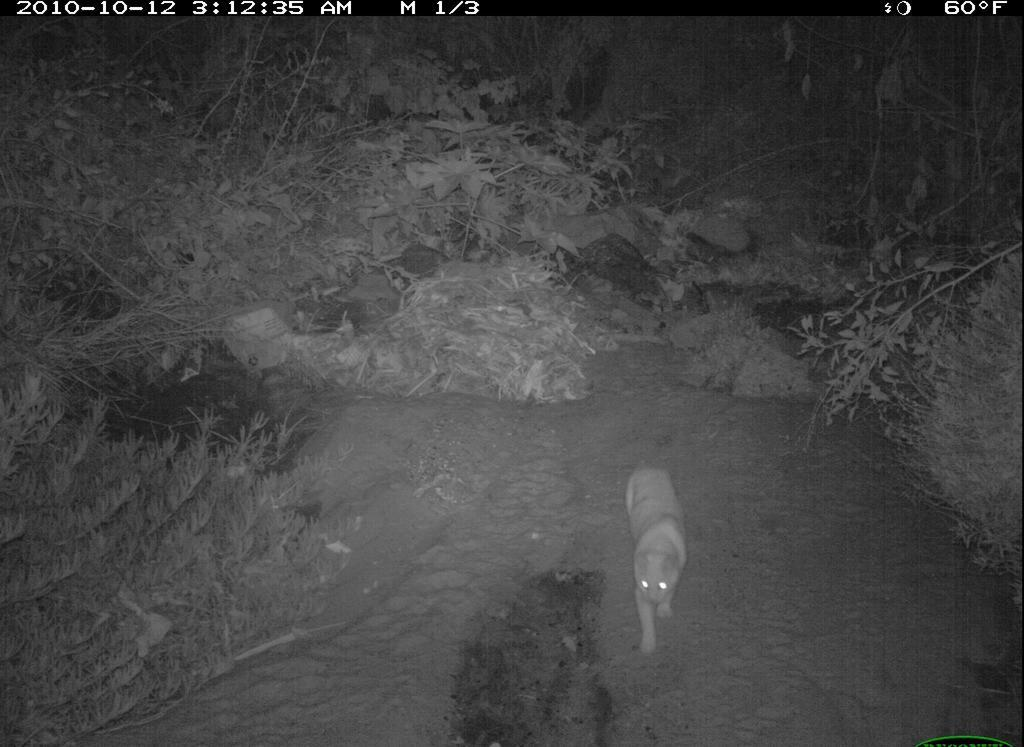cat: (611, 449, 716, 670)
